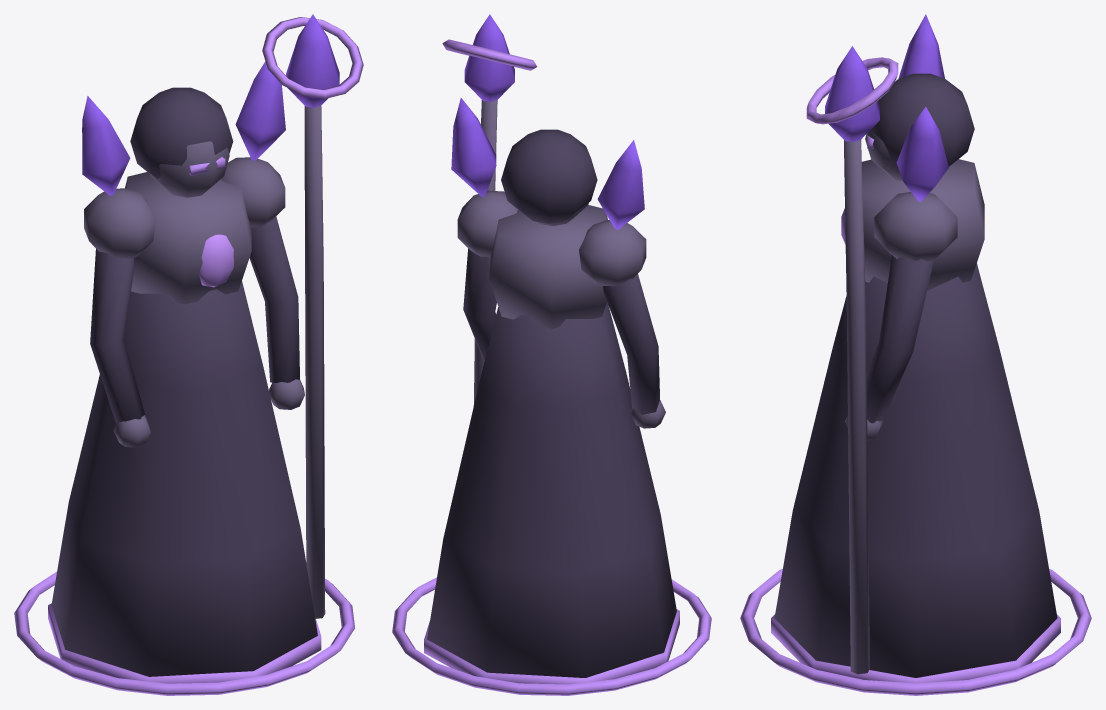
File: unit_arcane_guardian.obj
The picture shows the model from 3 angles, left to right: view 1: azimuth 30°, elevation 25°; view 2: azimuth 150°, elevation 25°; view 3: azimuth 270°, elevation 25°; orthographic projection. The views are drawn at different scales.
Parts seen in each view (by area): view 1: Robe, Chest, Staff, Hood, Arm_-1, Aura, Arm_1, Shoulder_-1, RobeTrim, ShoulderCrystal_1, ShoulderCrystal_-1, StaffCrystal (+6 smaller); view 2: Robe, Chest, Hood, Aura, Arm_-1, Shoulder_-1, RobeTrim, ShoulderCrystal_1, ShoulderCrystal_-1, StaffCrystal, Shoulder_1, Arm_1 (+3 smaller); view 3: Robe, Staff, Chest, Aura, Arm_1, Hood, Shoulder_1, RobeTrim, ShoulderCrystal_1, StaffCrystal, StaffRing, ShoulderCrystal_-1 (+1 smaller).
Part boxes in pixels (x1=…): Robe: x1=51, y1=281, x2=317, y2=676; Chest: x1=125, y1=172, x2=251, y2=304; Staff: x1=304, y1=106, x2=325, y2=618; Hood: x1=130, y1=87, x2=233, y2=179; Arm_-1: x1=90, y1=249, x2=145, y2=423; Aura: x1=14, y1=571, x2=354, y2=695; Arm_1: x1=249, y1=216, x2=299, y2=382; Shoulder_-1: x1=84, y1=188, x2=155, y2=258; RobeTrim: x1=48, y1=603, x2=321, y2=683; ShoulderCrystal_1: x1=235, y1=61, x2=285, y2=160; ShoulderCrystal_-1: x1=82, y1=96, x2=130, y2=195; StaffCrystal: x1=286, y1=14, x2=339, y2=108; Robe: x1=427, y1=302, x2=676, y2=677; Chest: x1=489, y1=205, x2=607, y2=328; Hood: x1=501, y1=129, x2=597, y2=223; Aura: x1=392, y1=577, x2=711, y2=695; Arm_-1: x1=603, y1=274, x2=659, y2=414; Shoulder_-1: x1=579, y1=220, x2=646, y2=286; RobeTrim: x1=424, y1=609, x2=679, y2=684; ShoulderCrystal_1: x1=451, y1=98, x2=496, y2=197; ShoulderCrystal_-1: x1=597, y1=140, x2=644, y2=229; StaffCrystal: x1=464, y1=14, x2=514, y2=102; Shoulder_1: x1=457, y1=190, x2=517, y2=256; Arm_1: x1=463, y1=248, x2=496, y2=361; Robe: x1=774, y1=263, x2=1057, y2=677; Staff: x1=844, y1=140, x2=869, y2=674; Chest: x1=862, y1=159, x2=984, y2=290; Aura: x1=740, y1=568, x2=1091, y2=695; Arm_1: x1=866, y1=255, x2=933, y2=423; Hood: x1=870, y1=73, x2=974, y2=166; Shoulder_1: x1=874, y1=192, x2=957, y2=261; RobeTrim: x1=771, y1=614, x2=1060, y2=683; ShoulderCrystal_1: x1=896, y1=106, x2=948, y2=201; StaffCrystal: x1=825, y1=46, x2=879, y2=142; StaffRing: x1=806, y1=57, x2=898, y2=124; ShoulderCrystal_-1: x1=898, y1=14, x2=944, y2=78.
Size of the model in its own units: 1.77 by 3.53 by 1.77.
